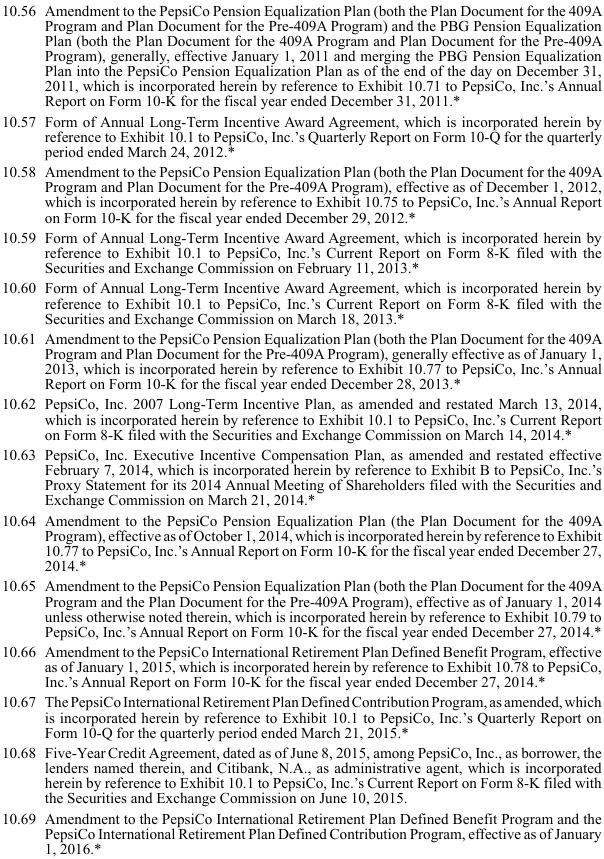table: (0, 1, 601, 856)
table column: (39, 1, 601, 856), (0, 1, 39, 856)
table row: (0, 1, 601, 110), (0, 160, 601, 226), (0, 327, 601, 393), (0, 443, 601, 509), (0, 509, 601, 575), (0, 741, 601, 807), (0, 575, 601, 640), (0, 226, 601, 277), (0, 640, 601, 691), (0, 110, 601, 160), (0, 277, 601, 327), (0, 393, 601, 443), (0, 691, 601, 741), (0, 807, 601, 856)
